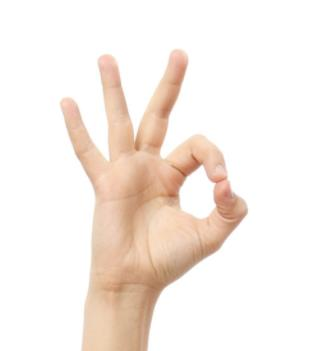left: (57, 45, 254, 289)
